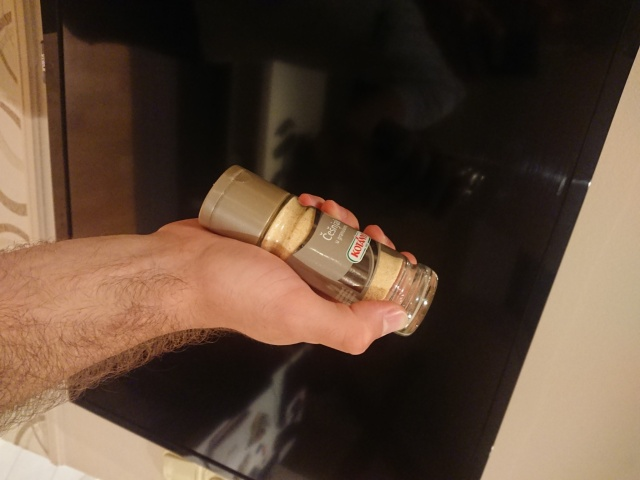Kotanyi Garlic Granules 70g: (195, 162, 441, 338)
